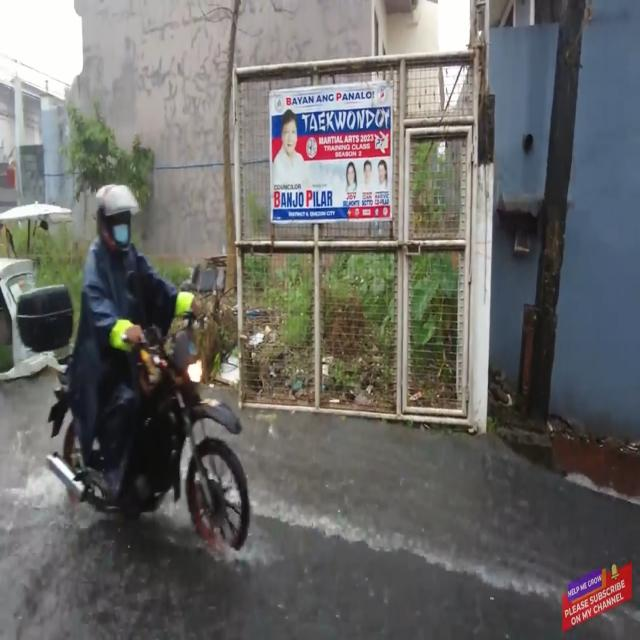full: (94, 183, 140, 256)
